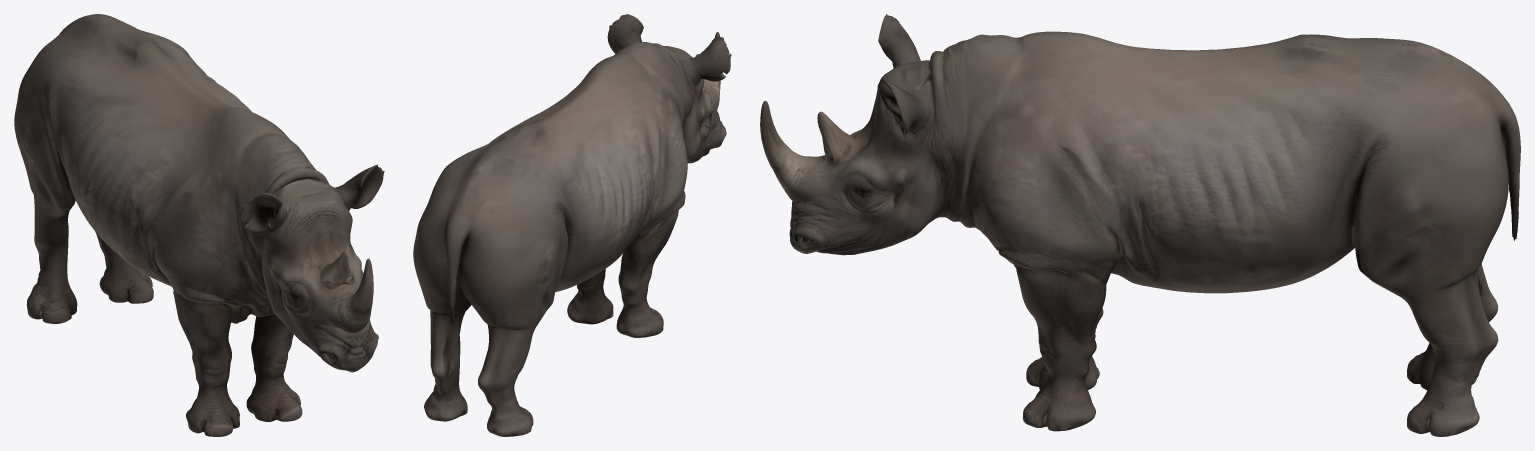
Rendered from black-rhinoceros.glb.
3 renders of one model, left to right at view 1: azimuth 30°, elevation 25°; view 2: azimuth 150°, elevation 25°; view 3: azimuth 270°, elevation 25°, orthographic. The views are drawn at different scales.
Visible parts, largest first — view 1: node_0; view 2: node_0; view 3: node_0.
Part boxes in pixels (box(x1,y1,x2,y2)): node_0: box(14, 14, 384, 436); node_0: box(413, 14, 731, 436); node_0: box(760, 14, 1520, 436).
Size of the model in its own units: 0.3652 by 0.6117 by 1.14.
Materials: 1 (1 with a texture image).
